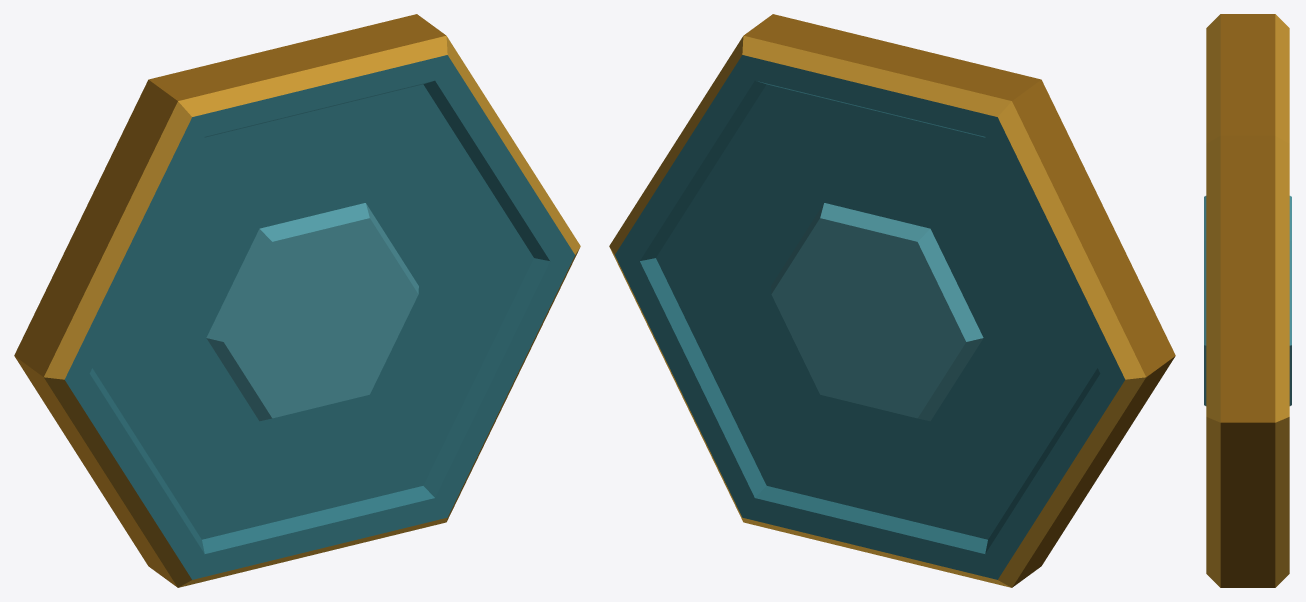
File: Coin_34.glb
The picture shows the model from 3 angles, left to right: view 1: azimuth 30°, elevation 25°; view 2: azimuth 150°, elevation 25°; view 3: azimuth 270°, elevation 25°; orthographic projection. The views are drawn at different scales.
Visible parts, largest first — view 1: Coin_34; view 2: Coin_34; view 3: Coin_34.
Part boxes in pixels (x1,y1,x2,y2): Coin_34: (14,14,580,587); Coin_34: (609,14,1175,587); Coin_34: (1204,14,1291,587).
Bounding box in the file's own units: 1.82 × 1.58 × 0.278.
